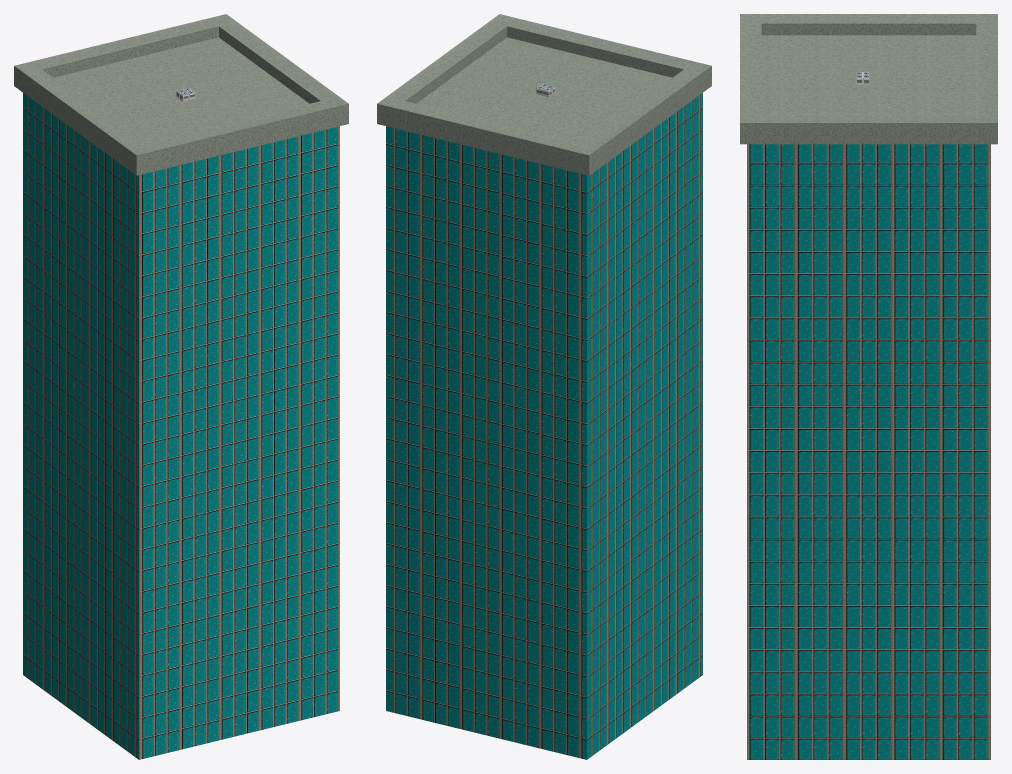
The model's file is NICE BUILD.fbx.
3 views of the same model, side by side, from view 1: azimuth 30°, elevation 25°; view 2: azimuth 150°, elevation 25°; view 3: azimuth 270°, elevation 25° (orthographic). The views are drawn at different scales.
Parts seen in each view (by area): view 1: NICE_BUILD; view 2: NICE_BUILD; view 3: NICE_BUILD.
Part boxes in pixels (box(x1,y1,x2,y2)): NICE_BUILD: box(14, 14, 348, 759); NICE_BUILD: box(377, 14, 711, 759); NICE_BUILD: box(740, 14, 997, 759).
Size of the model in its own units: 4225 by 11570 by 4225.
